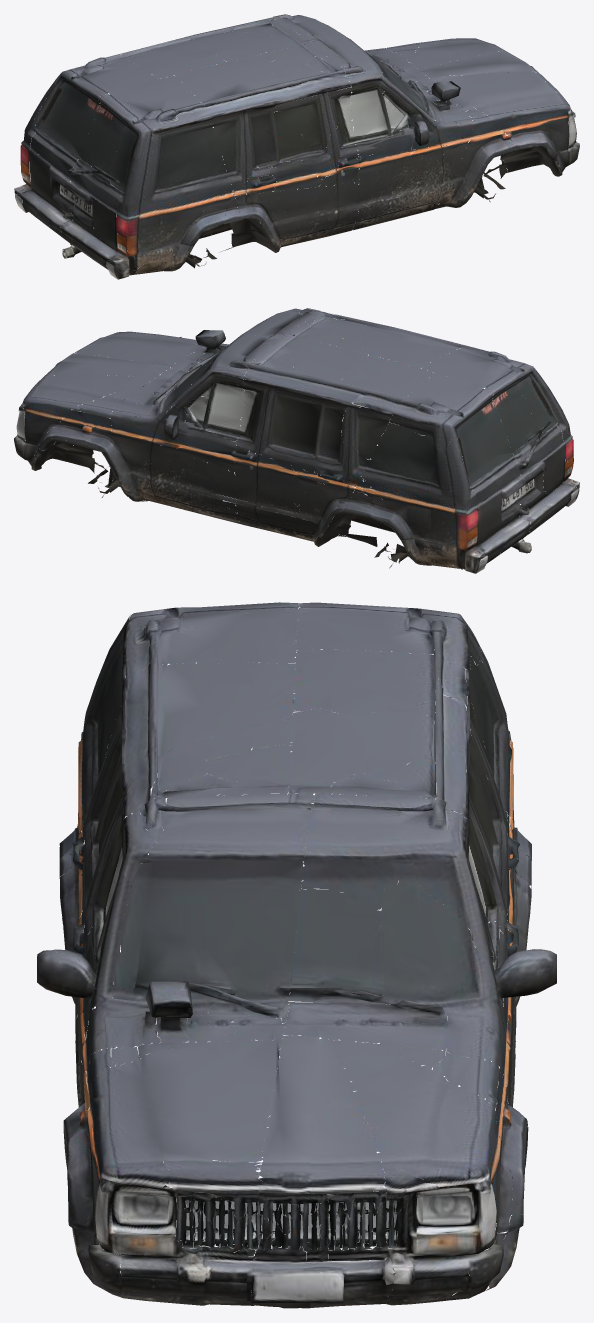
The model's file is xj_trial.glb.
3 renders of one model, top to bottom at view 1: azimuth 30°, elevation 25°; view 2: azimuth 150°, elevation 25°; view 3: azimuth 270°, elevation 25°, orthographic. The views are drawn at different scales.
Visible parts, largest first — view 1: V_BODY; view 2: V_BODY; view 3: V_BODY.
Boxes of the visible parts, left/top/right/bottom form: V_BODY: left=14, top=14, right=579, bottom=279; V_BODY: left=14, top=308, right=579, bottom=573; V_BODY: left=37, top=602, right=556, bottom=1308.
Size of the model in its own units: 4.25 by 1.47 by 1.98.
1 material, 1 textured.
